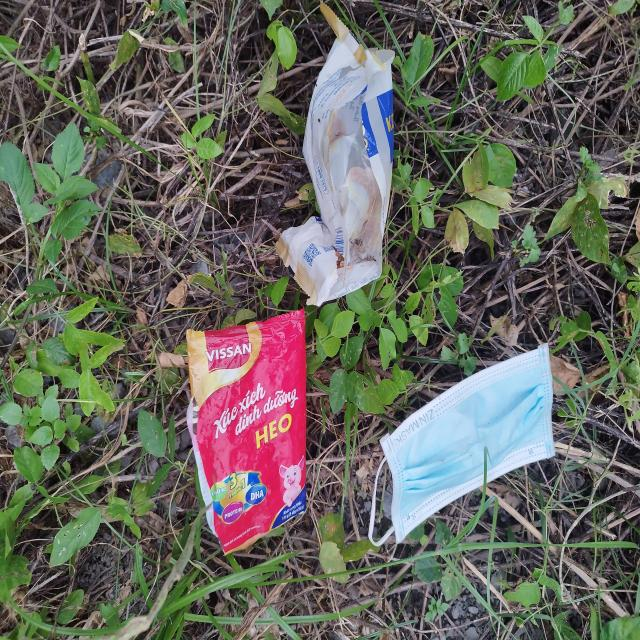mask: (368, 344, 557, 546)
packet: (274, 0, 394, 307)
snack package: (184, 310, 307, 557)
